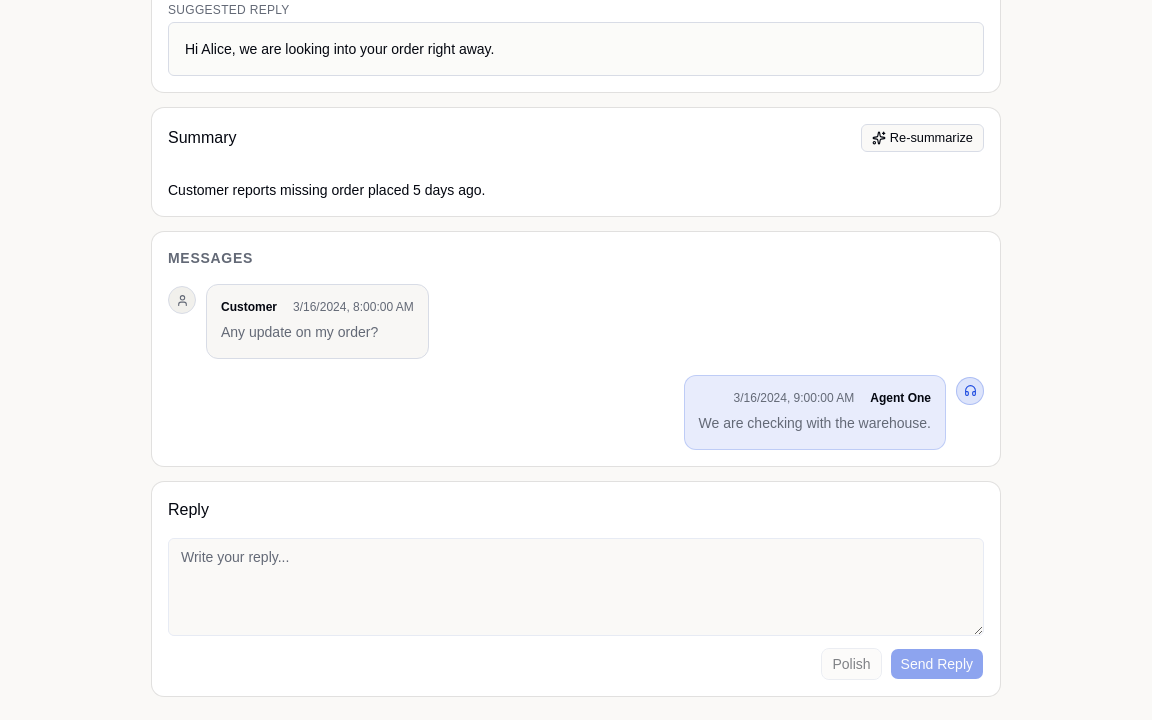
it: TicketDetailPage › shows error text when reply fails
The width and height of the screenshot is (1152, 720).
(page scrolled)
Type "Hello" into the text box named "reply body" at (576, 586), box [168,538,984,636]
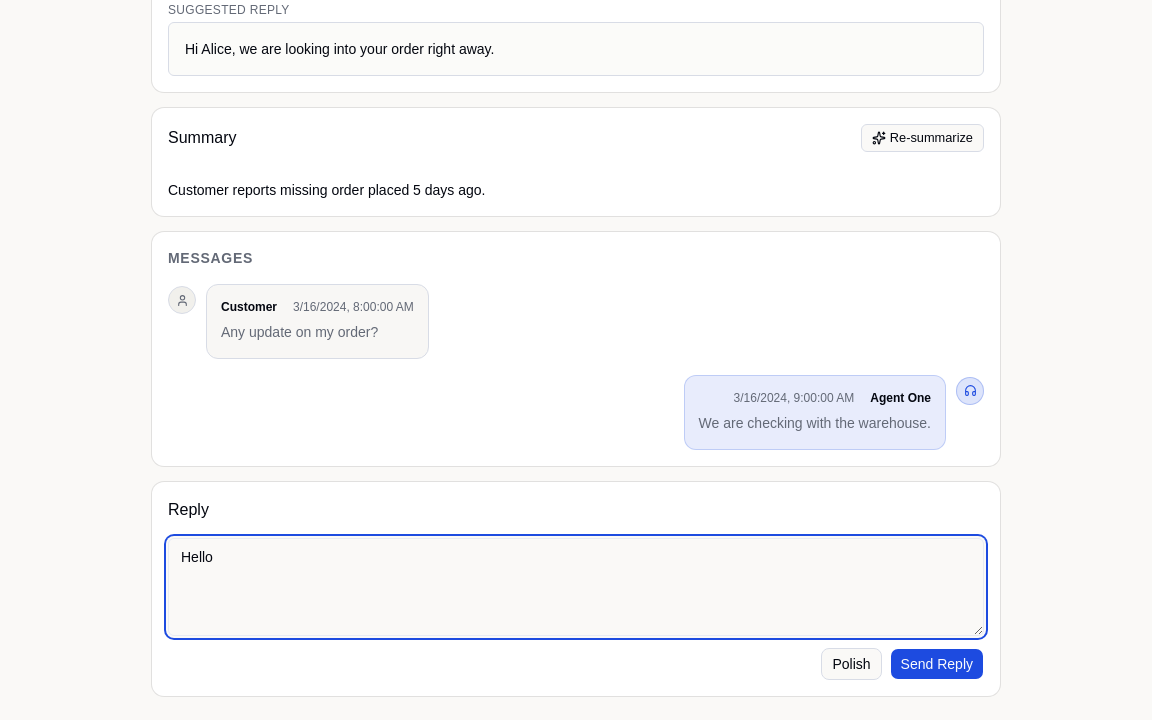
Click the button "Send Reply" at (937, 664), box [890,648,984,680]
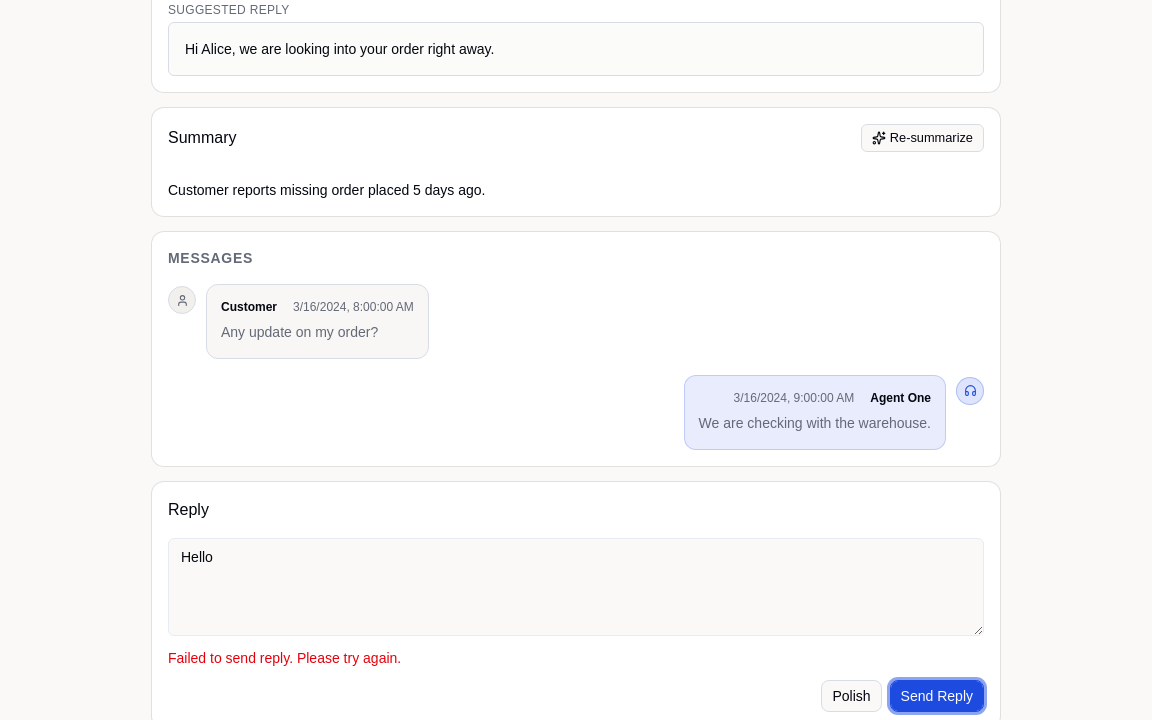
Expected: the text "Failed to send reply. Please try again." is shown, [168,650,401,666]
